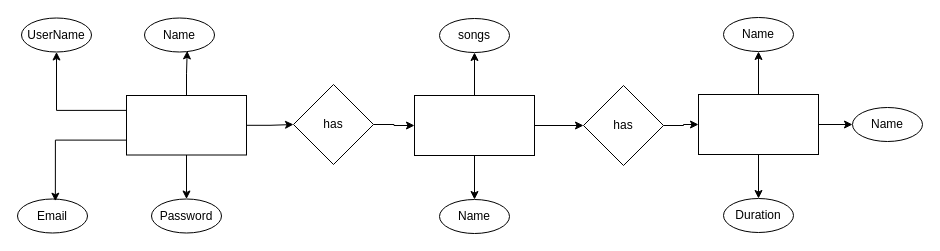
The diagram is 940 pixels wide and 251 high, and some of its shapes have lost their labels. Here are the shapes that lost their labels. From the top down, the centre of each, then its label:
At [186,124]: "User".
At [474,125]: "Playlist".
At [758,124]: "Song".
